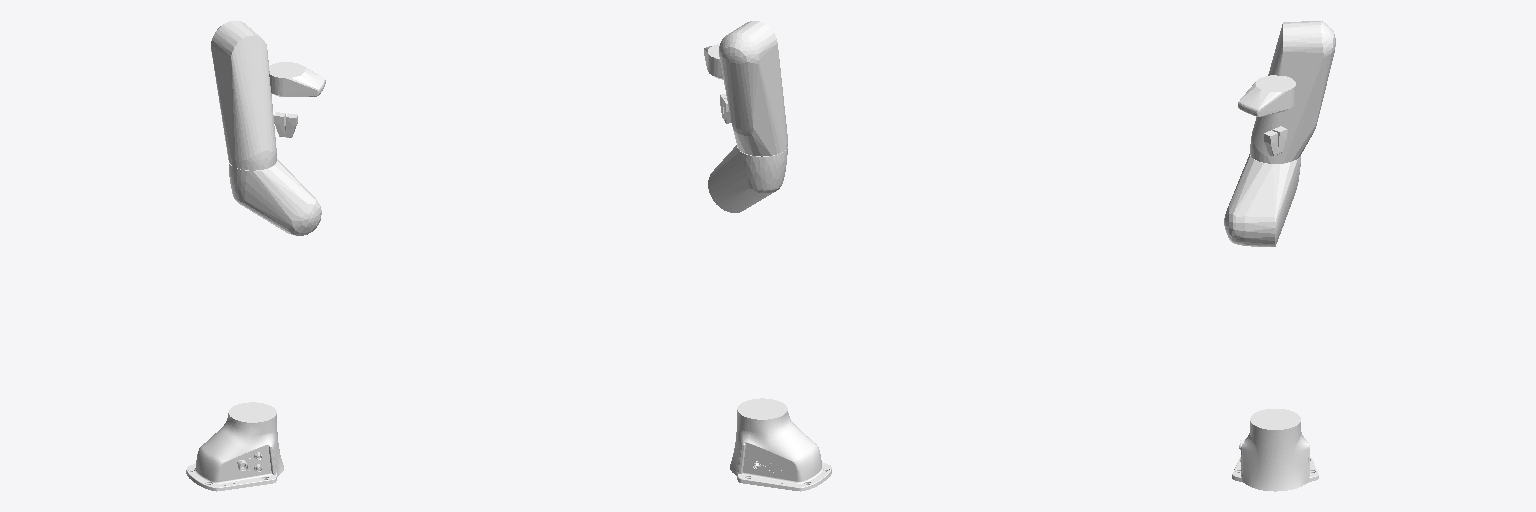
robot.urdf — panda:
<?xml version="1.0" ?>
<!-- =================================================================================== -->
<!-- |    This document was autogenerated by xacro from panda_arm_hand.urdf.xacro      | -->
<!-- |    EDITING THIS FILE BY HAND IS NOT RECOMMENDED                                 | -->
<!-- =================================================================================== -->
<robot name="panda" xmlns:xacro="http://www.ros.org/wiki/xacro">
  <link name="world"/>
  <joint name="arm_to_world_fixed" type="fixed">
    <parent link="world"/>
    <child link="panda_link0"/>
    <origin xyz="0 0 0" rpy="0 0 0" />
  </joint>
  <link name="panda_link0">
    <visual>
      <geometry>
        <mesh filename="./meshes/collision/link0.obj"/>
      </geometry>
      <material name="panda_white"/>
    </visual>
    <collision>
      <geometry>
        <mesh filename="./meshes/collision/link0.obj"/>
      </geometry>
      <material name="panda_white"/>
    </collision>
  </link>
  <link name="panda_link1">
    <visual>
      <geometry>
        <mesh filename="./meshes/collision/link1.obj"/>
      </geometry>
      <material name="panda_white"/>
    </visual>
    <collision>
      <geometry>
        <mesh filename="./meshes/collision/link1.obj"/>
      </geometry>
      <material name="panda_white"/>
    </collision>
  </link>
  <joint name="panda_joint1" type="revolute">
    <safety_controller k_position="100.0" k_velocity="40.0" soft_lower_limit="-2.8973" soft_upper_limit="2.8973"/>
    <origin rpy="0 0 0" xyz="0 0 0.333"/>
    <parent link="panda_link0"/>
    <child link="panda_link1"/>
    <axis xyz="0 0 1"/>
    <limit effort="87" lower="-2.9671" upper="2.9671" velocity="2.1750"/>
  </joint>
  <link name="panda_link2">
    <visual>
      <geometry>
        <mesh filename="./meshes/collision/link2.obj"/>
      </geometry>
      <material name="panda_white"/>
    </visual>
    <collision>
      <geometry>
        <mesh filename="./meshes/collision/link2.obj"/>
      </geometry>
      <material name="panda_white"/>
    </collision>
  </link>
  <joint name="panda_joint2" type="revolute">
    <safety_controller k_position="100.0" k_velocity="40.0" soft_lower_limit="-1.7628" soft_upper_limit="1.7628"/>
    <origin rpy="-1.57079632679 0 0" xyz="0 0 0"/>
    <parent link="panda_link1"/>
    <child link="panda_link2"/>
    <axis xyz="0 0 1"/>
    <limit effort="87" lower="-1.8326" upper="1.8326" velocity="2.1750"/>
  </joint>
  <link name="panda_link3">
    <visual>
      <geometry>
        <mesh filename="./meshes/collision/link3.obj"/>
      </geometry>
      <material name="panda_white"/>
    </visual>
    <collision>
      <geometry>
        <mesh filename="./meshes/collision/link3.obj"/>
      </geometry>
      <material name="panda_white"/>
    </collision>
  </link>
  <joint name="panda_joint3" type="revolute">
    <safety_controller k_position="100.0" k_velocity="40.0" soft_lower_limit="-2.8973" soft_upper_limit="2.8973"/>
    <origin rpy="1.57079632679 0 0" xyz="0 -0.316 0"/>
    <parent link="panda_link2"/>
    <child link="panda_link3"/>
    <axis xyz="0 0 1"/>
    <limit effort="87" lower="-2.9671" upper="2.9671" velocity="2.1750"/>
  </joint>
  <link name="panda_link4">
    <visual>
      <geometry>
        <mesh filename="./meshes/collision/link4.obj"/>
      </geometry>
      <material name="panda_white"/>
    </visual>
    <collision>
      <geometry>
        <mesh filename="./meshes/collision/link4.obj"/>
      </geometry>
      <material name="panda_white"/>
    </collision>
  </link>
  <joint name="panda_joint4" type="revolute">
    <safety_controller k_position="100.0" k_velocity="40.0" soft_lower_limit="-3.0718" soft_upper_limit="-0.0698"/>
    <origin rpy="1.57079632679 0 0" xyz="0.0825 0 0"/>
    <parent link="panda_link3"/>
    <child link="panda_link4"/>
    <axis xyz="0 0 1"/>
    <limit effort="87" lower="-3.1416" upper="0.0" velocity="2.1750"/>
  </joint>
  <link name="panda_link5">
    <visual>
      <geometry>
        <mesh filename="./meshes/collision/link5.obj"/>
      </geometry>
      <material name="panda_white"/>
    </visual>
    <collision>
      <geometry>
        <mesh filename="./meshes/collision/link5.obj"/>
      </geometry>
      <material name="panda_white"/>
    </collision>
  </link>
  <joint name="panda_joint5" type="revolute">
    <safety_controller k_position="100.0" k_velocity="40.0" soft_lower_limit="-2.8973" soft_upper_limit="2.8973"/>
    <origin rpy="-1.57079632679 0 0" xyz="-0.0825 0.384 0"/>
    <parent link="panda_link4"/>
    <child link="panda_link5"/>
    <axis xyz="0 0 1"/>
    <limit effort="12" lower="-2.9671" upper="2.9671" velocity="2.6100"/>
  </joint>
  <link name="panda_link6">
    <visual>
      <geometry>
        <mesh filename="./meshes/collision/link6.obj"/>
      </geometry>
      <material name="panda_white"/>
    </visual>
    <collision>
      <geometry>
        <mesh filename="./meshes/collision/link6.obj"/>
      </geometry>
      <material name="panda_white"/>
    </collision>
  </link>
  <joint name="panda_joint6" type="revolute">
    <safety_controller k_position="100.0" k_velocity="40.0" soft_lower_limit="-0.0175" soft_upper_limit="3.7525"/>
    <origin rpy="1.57079632679 0 0" xyz="0 0 0"/>
    <parent link="panda_link5"/>
    <child link="panda_link6"/>
    <axis xyz="0 0 1"/>
    <limit effort="12" lower="-0.0873" upper="3.8223" velocity="2.6100"/>
  </joint>
  <link name="panda_link7">
    <visual>
      <geometry>
        <mesh filename="./meshes/collision/link7.obj"/>
      </geometry>
      <material name="panda_white"/>
    </visual>
    <collision>
      <geometry>
        <mesh filename="./meshes/collision/link7.obj"/>
      </geometry>
      <material name="panda_white"/>
    </collision>
  </link>
  <joint name="panda_joint7" type="revolute">
    <safety_controller k_position="100.0" k_velocity="40.0" soft_lower_limit="-2.8973" soft_upper_limit="2.8973"/>
    <origin rpy="1.57079632679 0 0" xyz="0.088 0 0"/>
    <parent link="panda_link6"/>
    <child link="panda_link7"/>
    <axis xyz="0 0 1"/>
    <limit effort="12" lower="-2.9671" upper="2.9671" velocity="2.6100"/>
  </joint>
  <link name="panda_link8"/>
  <joint name="panda_joint8" type="fixed">
    <origin rpy="0 0 0" xyz="0 0 0.107"/>
    <parent link="panda_link7"/>
    <child link="panda_link8"/>
    <axis xyz="0 0 0"/>
  </joint>
  <joint name="panda_hand_joint" type="fixed">
    <parent link="panda_link8"/>
    <child link="panda_hand"/>
    <origin rpy="0 0 -0.785398163397" xyz="0 0 0"/>
  </joint>
  <link name="panda_hand">
    <visual>
      <geometry>
        <mesh filename="./meshes/collision/hand.obj"/>
      </geometry>
      <material name="panda_white"/>
    </visual>
    <collision>
      <geometry>
        <mesh filename="./meshes/collision/hand.obj"/>
      </geometry>
      <material name="panda_white"/>
    </collision>
  </link>
  <link name="panda_leftfinger">
    <visual>
      <geometry>
        <mesh filename="./meshes/collision/finger.obj"/>
      </geometry>
      <material name="panda_white"/>
    </visual>
    <collision>
      <geometry>
        <mesh filename="./meshes/collision/finger.obj"/>
      </geometry>
      <material name="panda_white"/>
    </collision>
  </link>
  <link name="panda_rightfinger">
    <visual>
      <origin rpy="0 0 3.14159265359" xyz="0 0 0"/>
      <geometry>
        <mesh filename="./meshes/collision/finger.obj"/>
      </geometry>
      <material name="panda_white"/>
    </visual>
    <collision>
      <origin rpy="0 0 3.14159265359" xyz="0 0 0"/>
      <geometry>
        <mesh filename="./meshes/collision/finger.obj"/>
      </geometry>
      <material name="panda_white"/>
    </collision>
  </link>
  <joint name="panda_finger_joint1" type="prismatic">
    <parent link="panda_hand"/>
    <child link="panda_leftfinger"/>
    <origin rpy="0 0 0" xyz="0 0 0.0584"/>
    <axis xyz="0 1 0"/>
    <limit effort="20" lower="0.0" upper="0.04" velocity="0.2"/>
  </joint>
  <joint name="panda_finger_joint2" type="prismatic">
    <parent link="panda_hand"/>
    <child link="panda_rightfinger"/>
    <origin rpy="0 0 0" xyz="0 0 0.0584"/>
    <axis xyz="0 -1 0"/>
    <limit effort="20" lower="0.0" upper="0.04" velocity="0.2"/>
    <mimic joint="panda_finger_joint1"/>
  </joint>
  <material name="panda_white">
    <color rgba="1. 1. 1. 1."/>
  </material>
</robot>

--- Facts derived from the render (not from the file) ---
3 views of the same robot in one strip: view 1: azimuth 30°, elevation 25°; view 2: azimuth 150°, elevation 25°; view 3: azimuth 270°, elevation 25° (orthographic).
Model panda with 13 links and 12 joints (7 revolute, 2 prismatic, 3 fixed), rooted at world, posed all joints at 0.
Links seen in each view (by area): view 1: panda_link5, panda_link0, panda_link4, panda_link7; view 2: panda_link5, panda_link0, panda_link4; view 3: panda_link5, panda_link0, panda_link4, panda_link7.
Boxes of the visible links, x1=… form: panda_link5: x1=211, y1=20, x2=276, y2=170; panda_link0: x1=186, y1=402, x2=283, y2=491; panda_link4: x1=229, y1=159, x2=321, y2=235; panda_link7: x1=269, y1=62, x2=325, y2=96; panda_link5: x1=719, y1=21, x2=787, y2=156; panda_link0: x1=730, y1=398, x2=831, y2=491; panda_link4: x1=708, y1=145, x2=787, y2=212; panda_link5: x1=1250, y1=21, x2=1335, y2=163; panda_link0: x1=1232, y1=409, x2=1318, y2=491; panda_link4: x1=1224, y1=154, x2=1300, y2=246; panda_link7: x1=1238, y1=75, x2=1295, y2=116.
Size in the robot's own frame: 0.3234 by 0.241 by 1.09 metres.
Meshes: 10 distinct files referenced, 6 mesh visuals loaded (5 OBJ); not drawn: 5 (reference not matched to a file when rendering).
